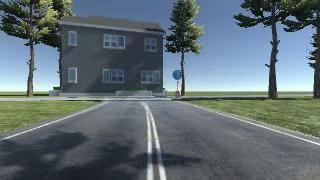turn_left: (172, 70, 182, 80)
